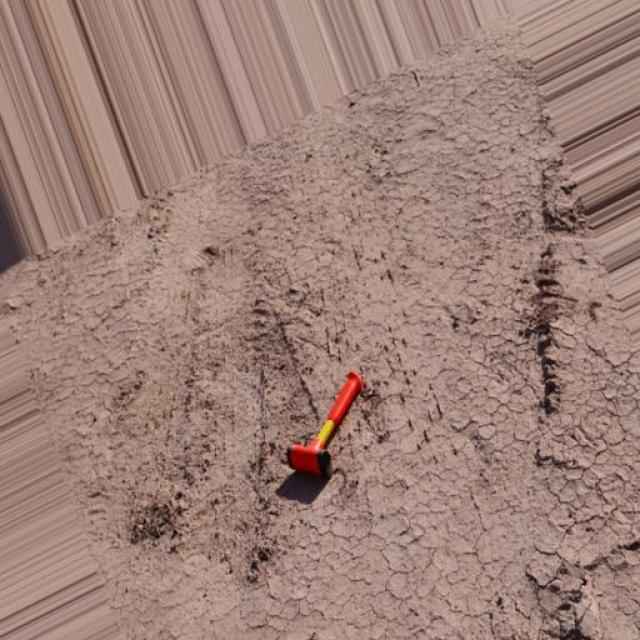mallet: (285, 368, 364, 478)
